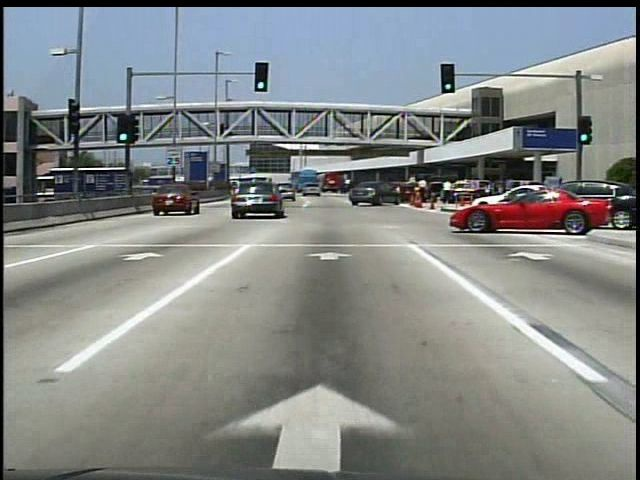person: (414, 175, 431, 210), (481, 182, 496, 216), (439, 178, 456, 205), (219, 123, 228, 140)
